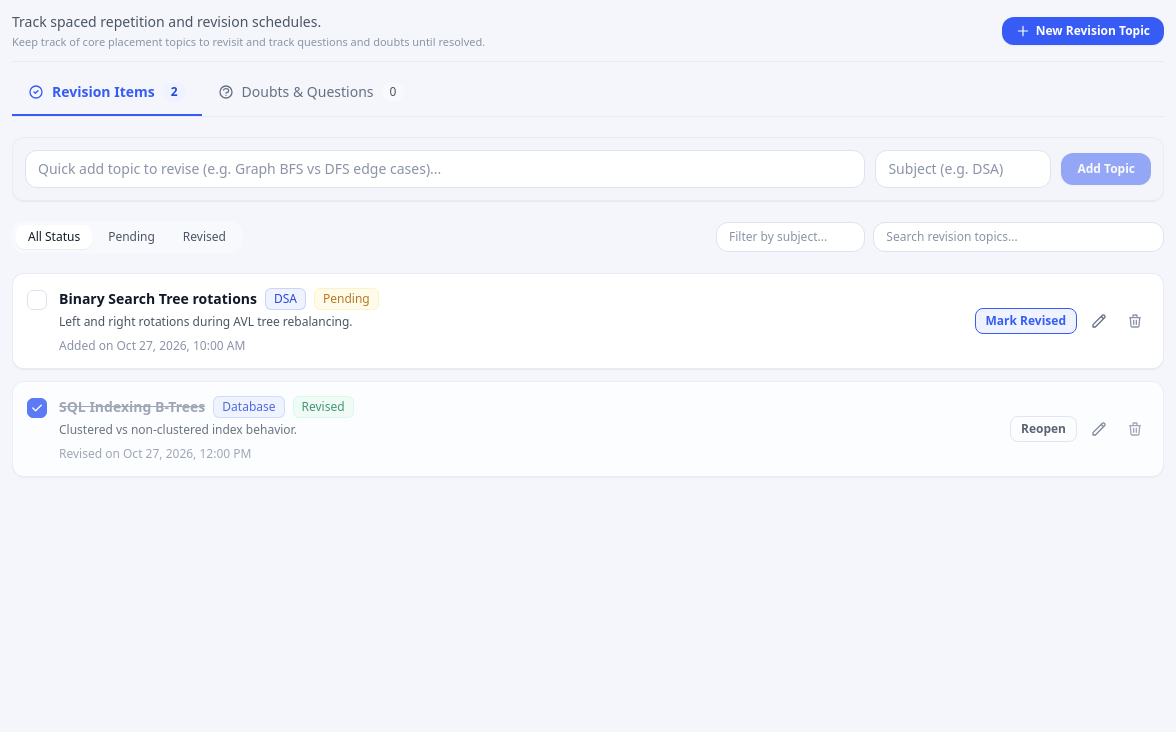
Scenario: Revision & Doubt Tracking Frontend Test Suite › rolls back optimistic update when status toggle fails
Expected: the heading "Binary Search Tree rotations" is shown, 59,288 -> 257,308
Click the button "Mark Revised": (1026,320) 974,308 -> 1077,334
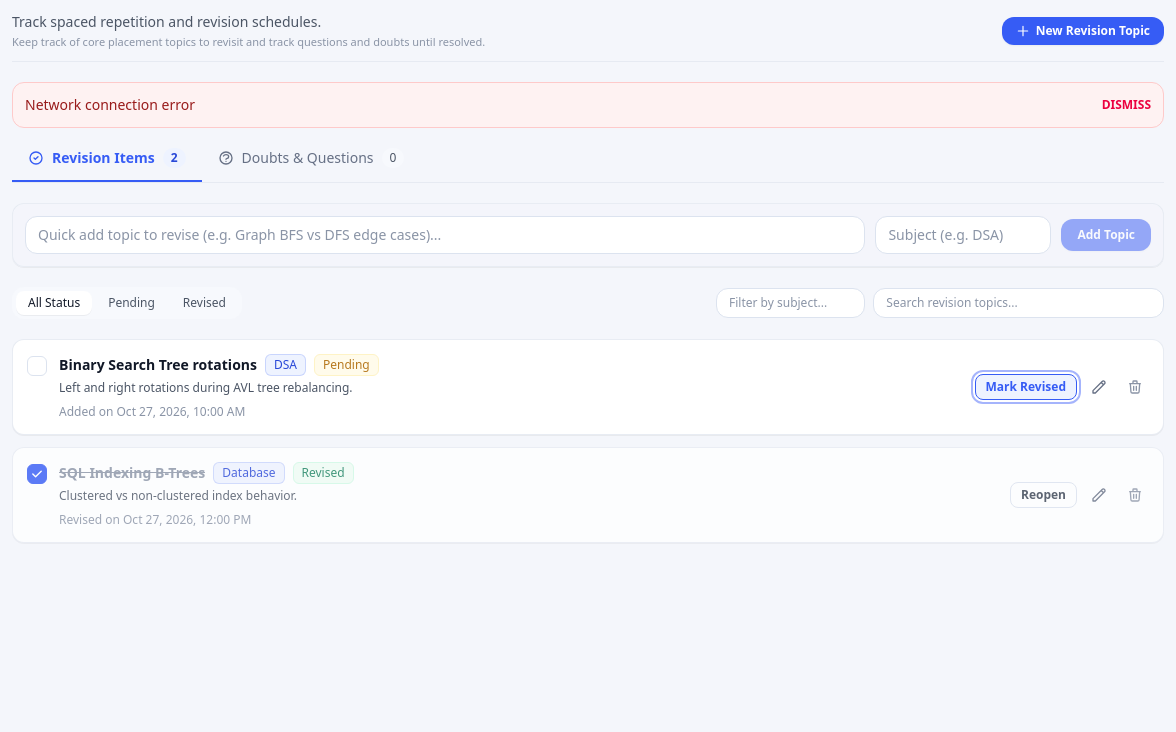
Expected: the message shows "Network connection error", 25,94 -> 195,114
